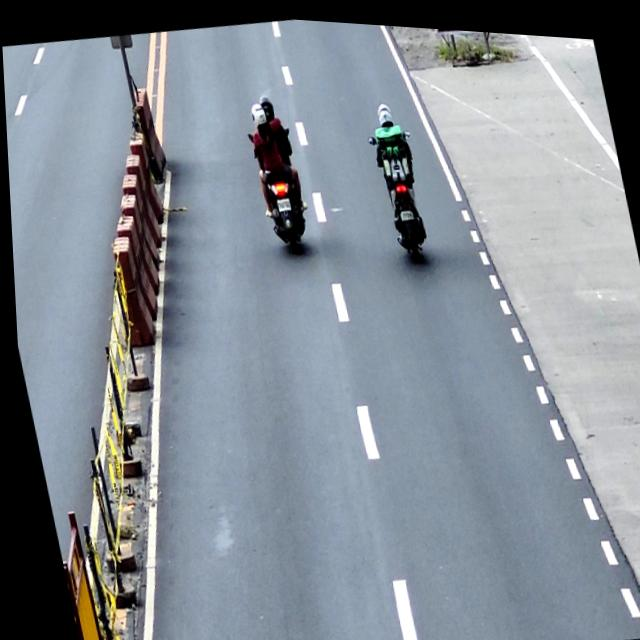License-Plate: (273, 193, 290, 209), (397, 202, 412, 216)
Motorcycle: (365, 121, 435, 259), (246, 121, 312, 254)
